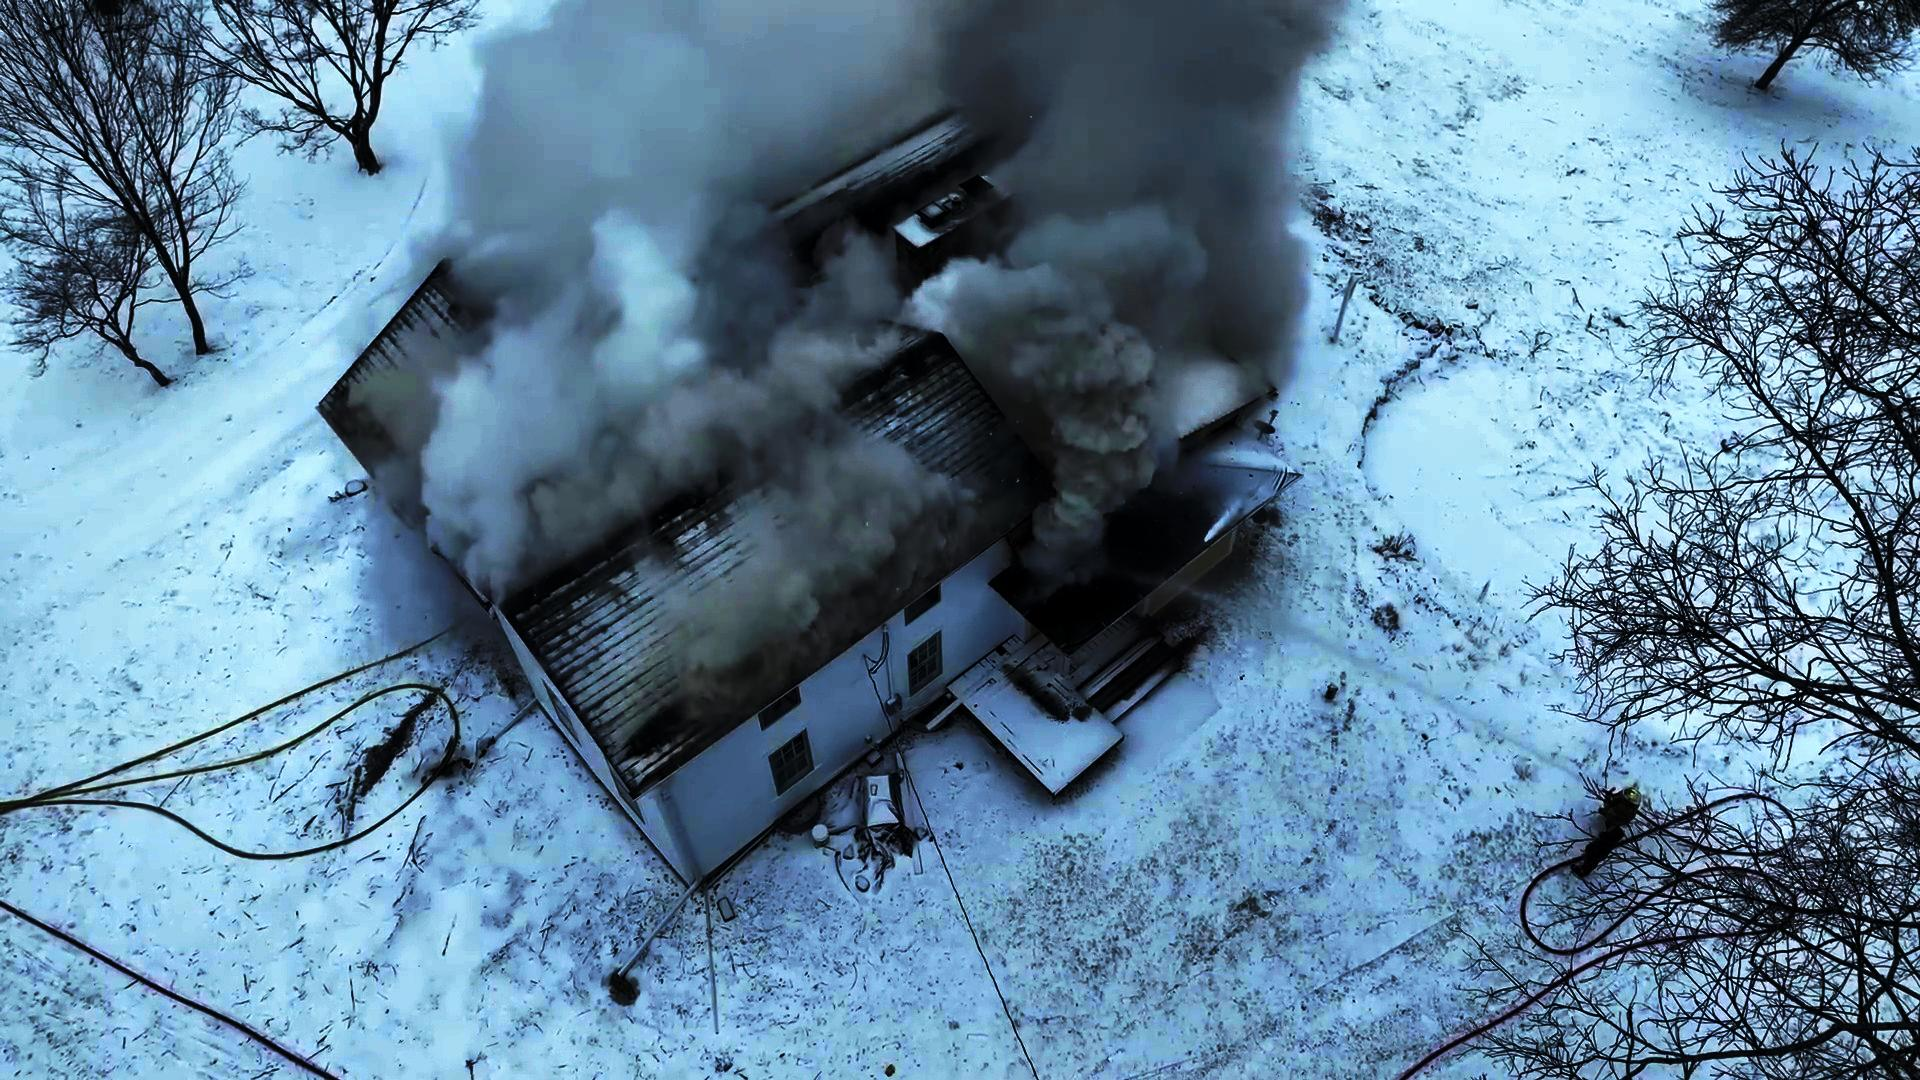smoke: (433, 11, 775, 464), (1018, 158, 1182, 560)
